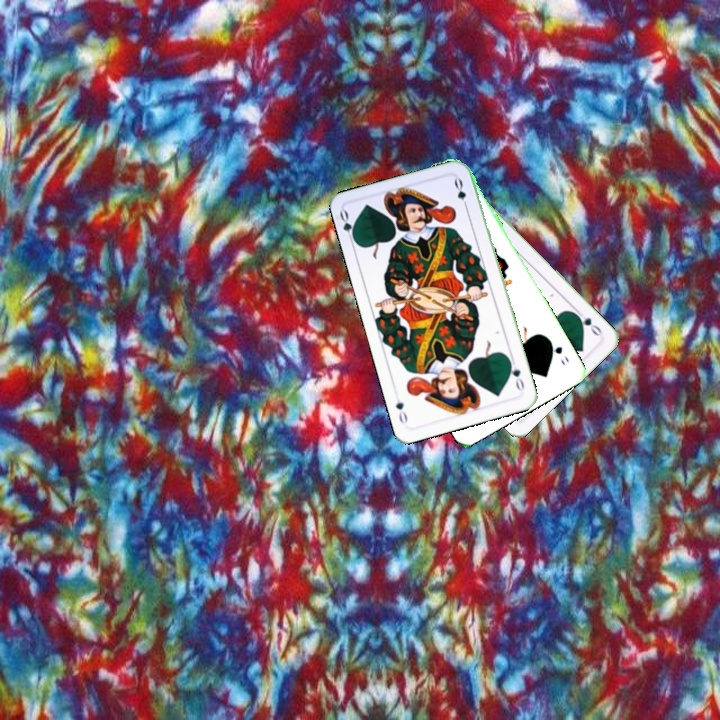GO: (571, 309, 604, 339), (335, 206, 359, 247), (545, 335, 572, 368), (505, 356, 527, 395)
